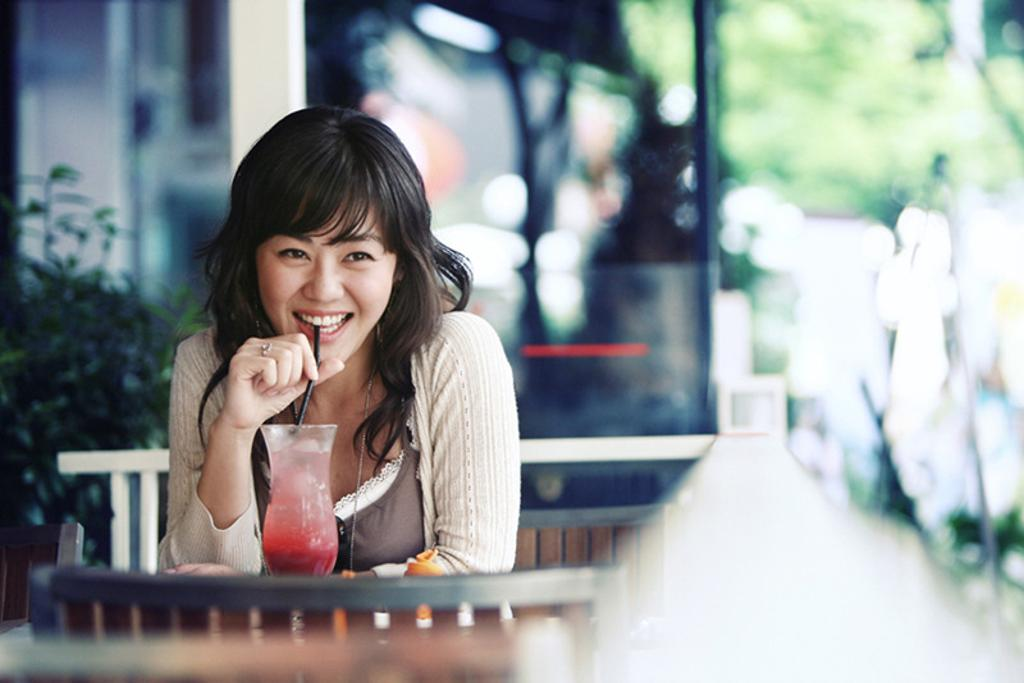face: (258, 178, 398, 364)
